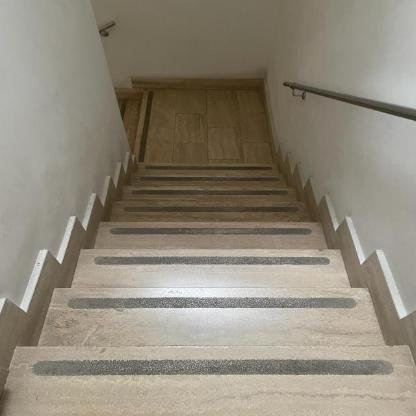stair: (17, 139, 369, 413)
